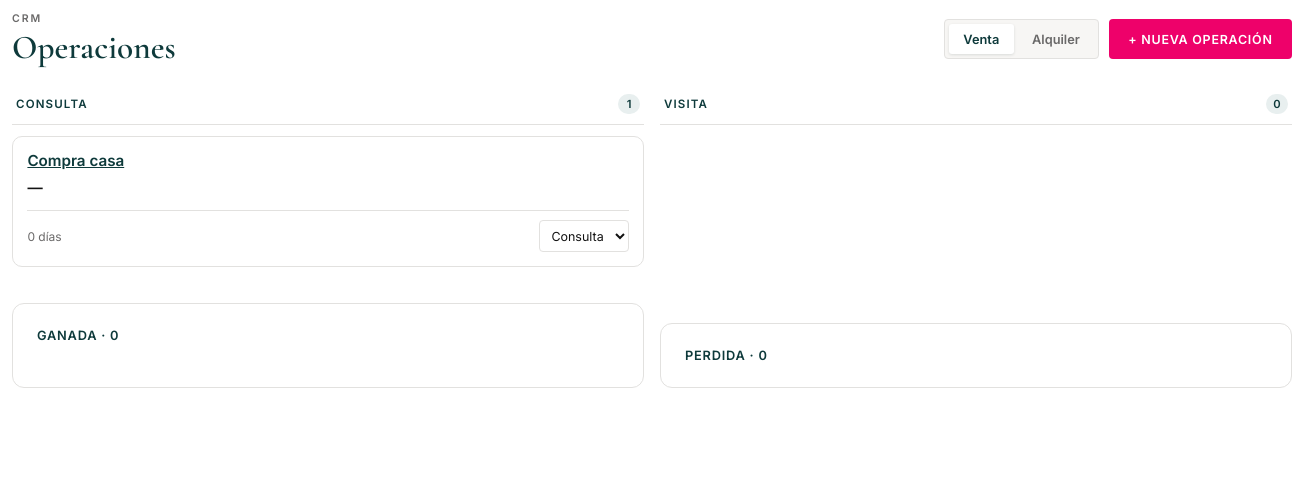
un 409 al mover deja la tarjeta donde estaba y muestra el detail
Expected: the link "Compra casa" is shown, 27,151 -> 124,170
Select "Ganada" in the dropdown named "Etapa" at point(584, 236), box 539,220 -> 629,252
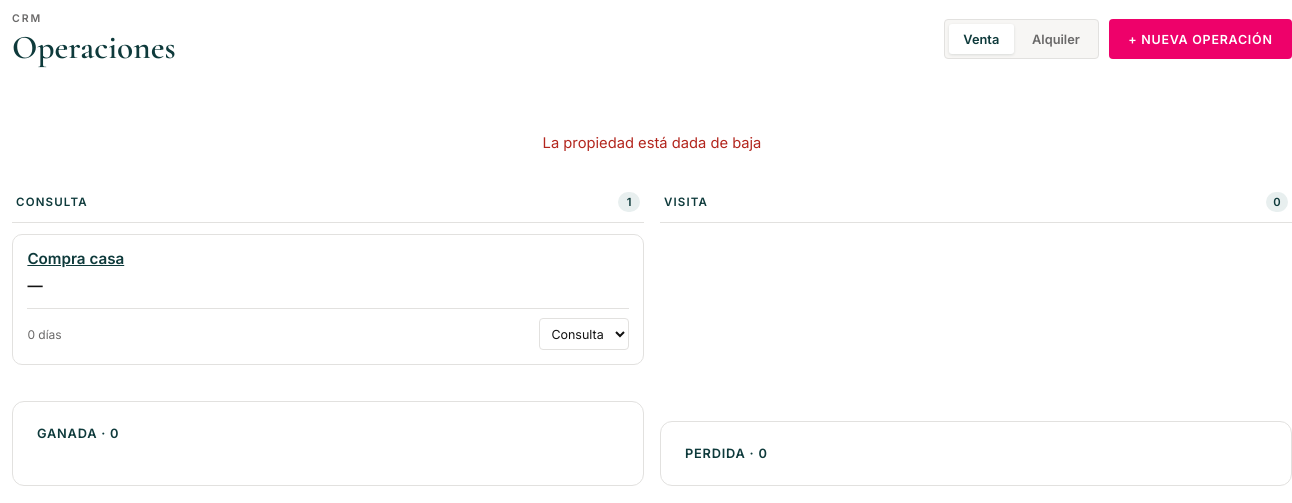
Expected: the dropdown named "Etapa" shows "Consulta", 539,318 -> 629,350
Expected: the text "La propiedad está dada de baja" is shown, 543,134 -> 761,152
